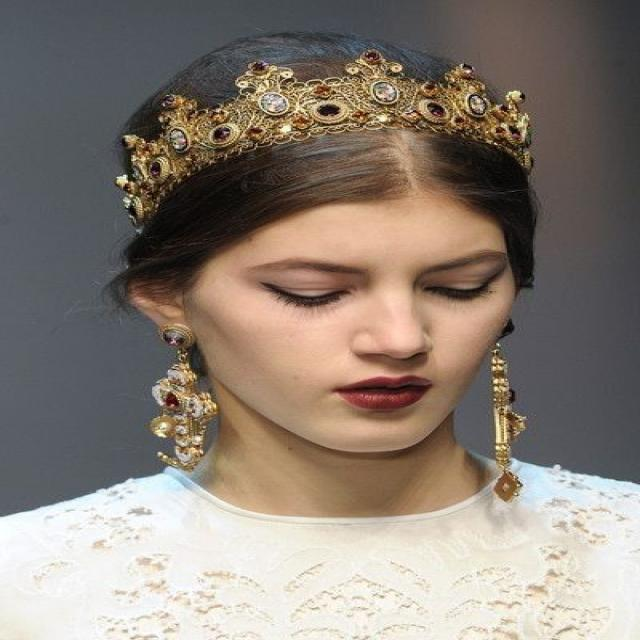Earring: (482, 332, 542, 510), (152, 328, 220, 482)
